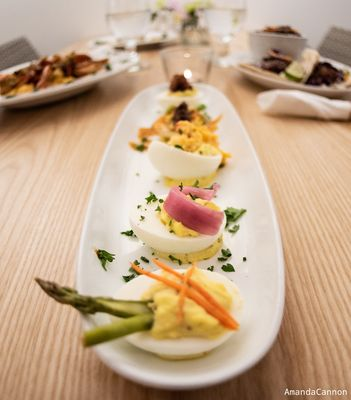pizza: (203, 2, 249, 69), (160, 44, 214, 89)
